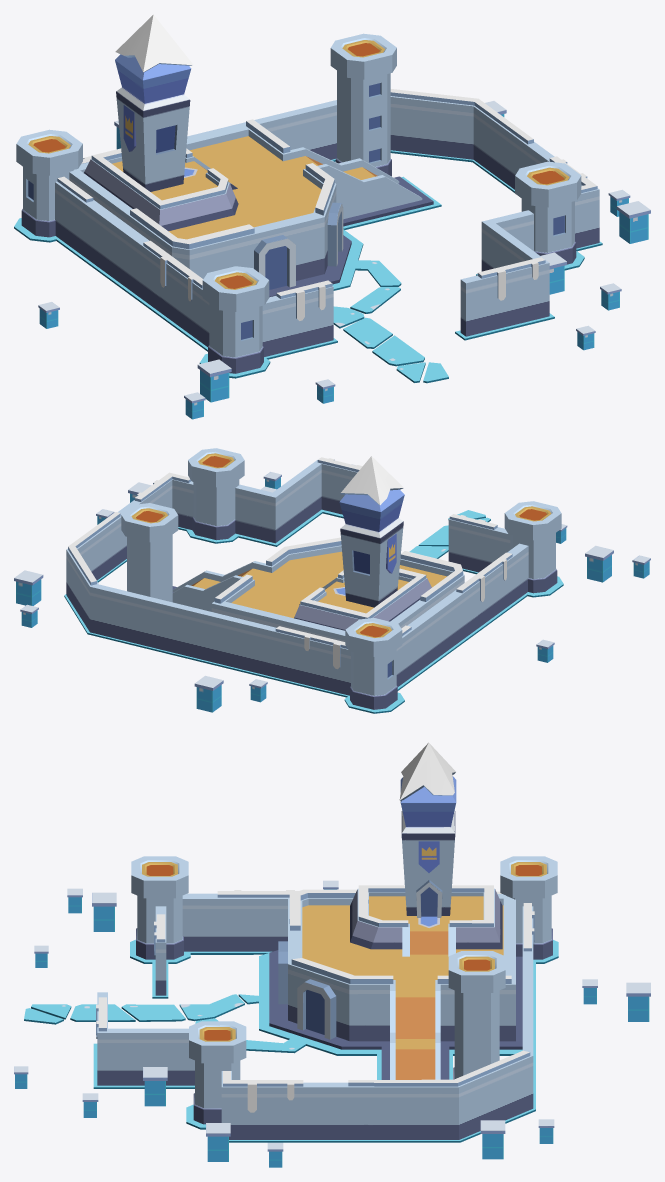
The model's file is Fight_Scene_Castle_002.FBX.
The picture shows the model from 3 angles, top to bottom: view 1: azimuth 30°, elevation 25°; view 2: azimuth 150°, elevation 25°; view 3: azimuth 270°, elevation 25°; orthographic projection. The views are drawn at different scales.
Parts seen in each view (by area): view 1: Fight_Scene_Castle_002; view 2: Fight_Scene_Castle_002; view 3: Fight_Scene_Castle_002.
Boxes of the visible parts, x1,y1,x2,y2 form: Fight_Scene_Castle_002: [14, 14, 650, 419]; Fight_Scene_Castle_002: [14, 448, 650, 713]; Fight_Scene_Castle_002: [14, 742, 650, 1167].
Bounding box in the file's own units: 21.99 × 8.95 × 22.03.
